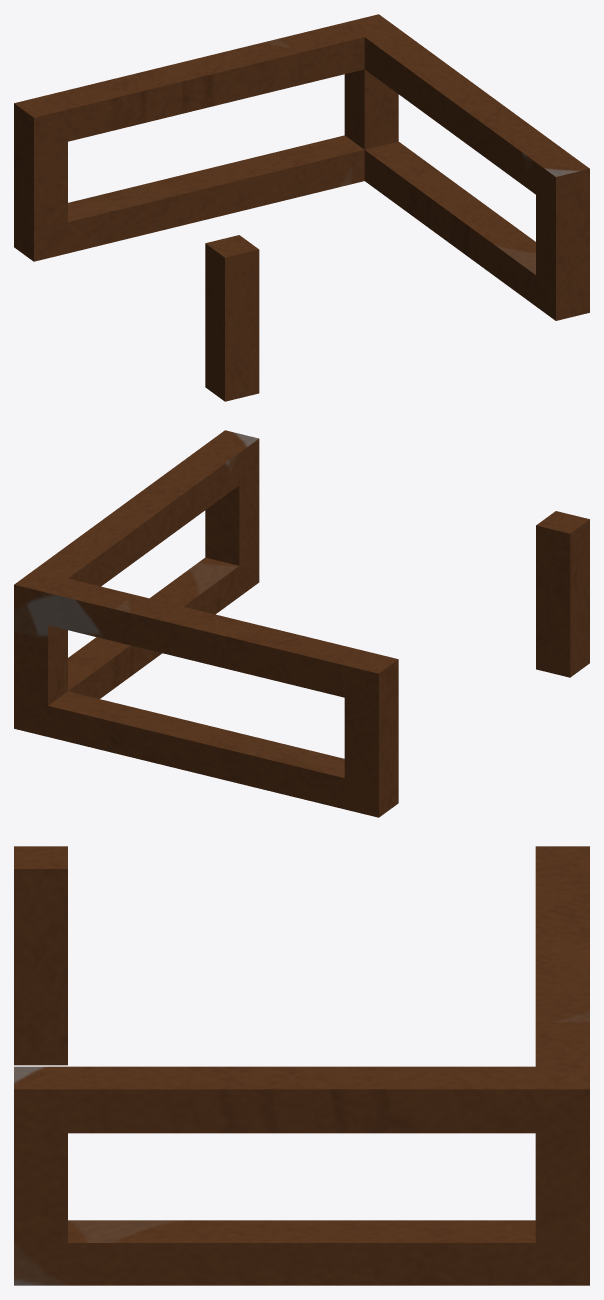
Rendered from cornerRail.fbx.
The picture shows the model from 3 angles, top to bottom: view 1: azimuth 30°, elevation 25°; view 2: azimuth 150°, elevation 25°; view 3: azimuth 270°, elevation 25°; orthographic projection. The views are drawn at different scales.
Parts seen in each view (by area): view 1: polySurface34; view 2: polySurface34; view 3: polySurface34.
Boxes of the visible parts, <box> form: polySurface34: <box>14,14,589,401</box>; polySurface34: <box>14,430,589,817</box>; polySurface34: <box>14,846,589,1285</box>.
Bounding box in the file's own units: 1.6 × 0.6027 × 1.6.
Materials: 1 (1 with a texture image).
